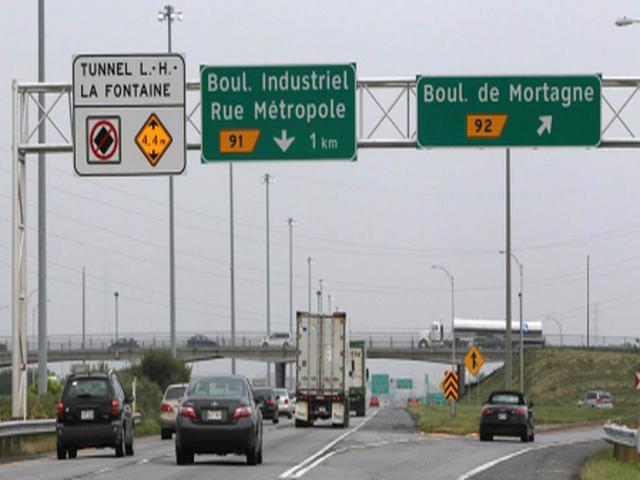autre: (201, 66, 357, 159), (418, 74, 601, 145)
